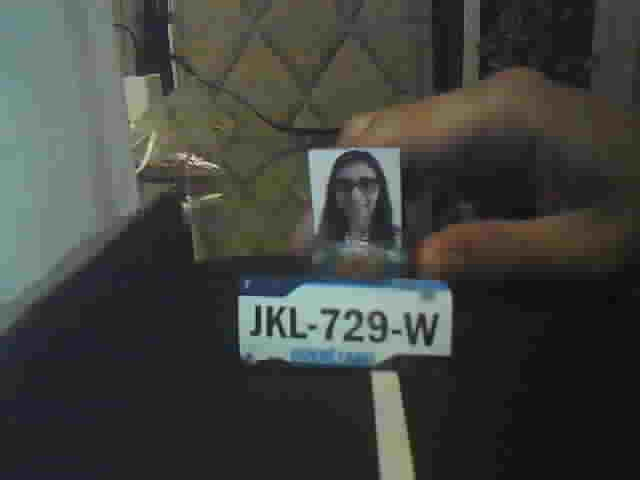PLACA: (237, 270, 455, 370)
ROSTRO: (317, 148, 402, 239)
